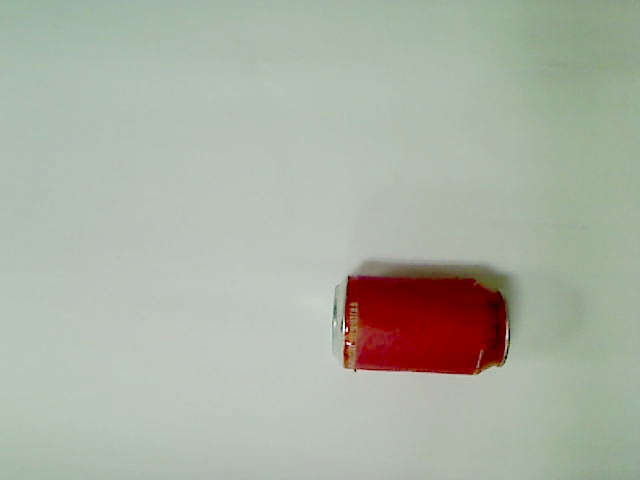can: (329, 273, 516, 376)
